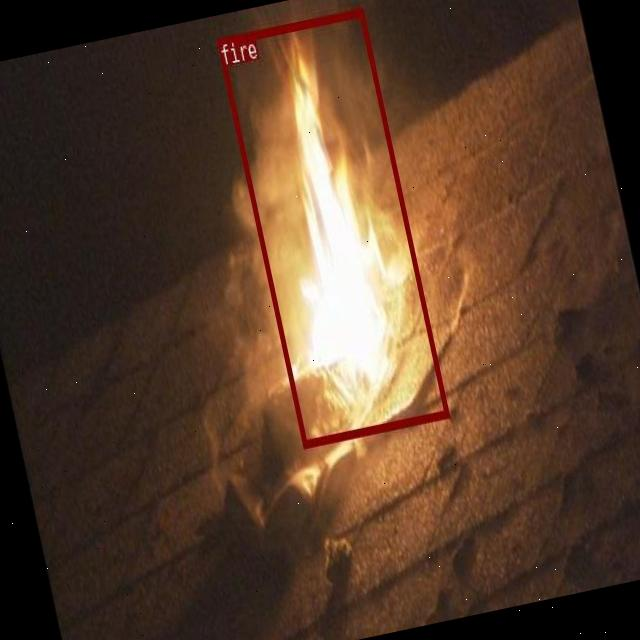fire: (216, 8, 448, 446)
